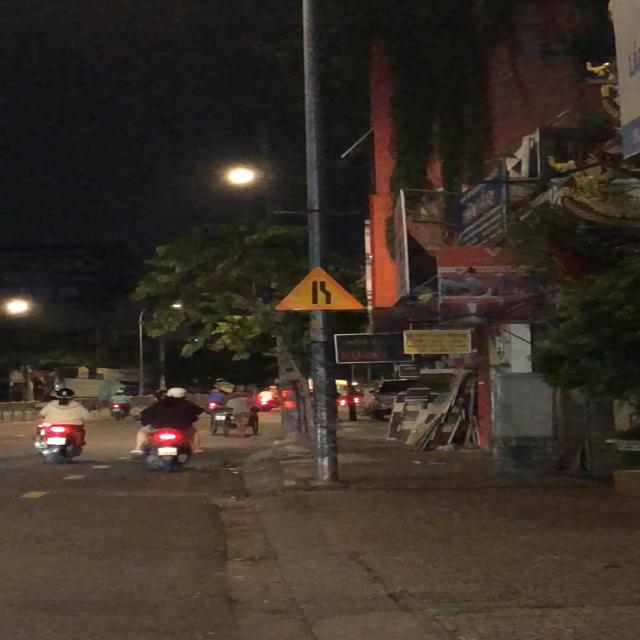Bien bao duong bi thu hep: (272, 263, 368, 311)
